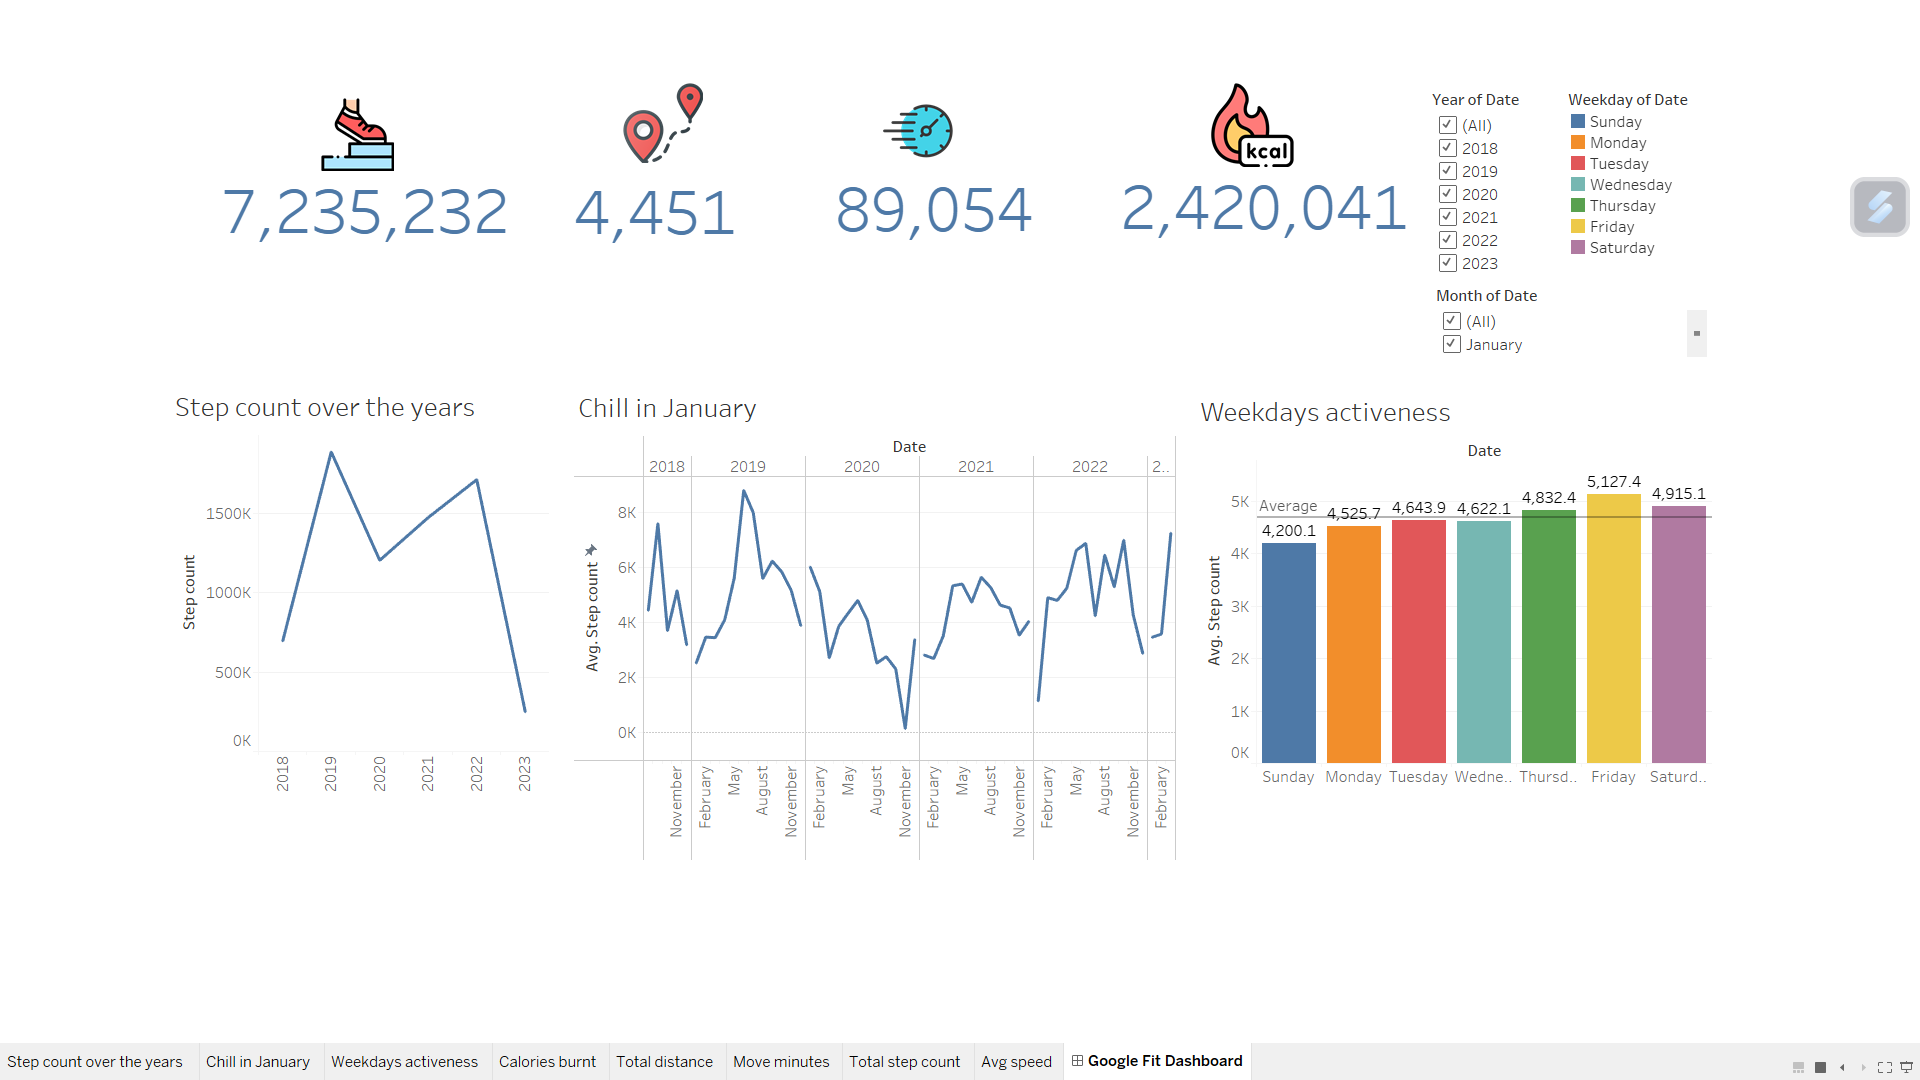

This screenshot's page, from the dashboard's own definition file:
{"tool":"tableau","page":{"name":"Google Fit Dashboard","canvas":[1600,900],"ordinal":0},"visuals":[{"type":"image","param":"C:/Users/Admin/Documents/My Tableau Repository/Shapes/custom icons/distance.png","box":[463,12,97,80]},{"type":"image","param":"C:/Users/Admin/Documents/My Tableau Repository/Shapes/custom icons/calories.png","box":[1050,12,84,88]},{"type":"image","param":"C:/Users/Admin/Documents/My Tableau Repository/Shapes/custom icons/time.png","box":[713,15,96,89]},{"type":"filter","title":"Step count over the years","param":"[federated.07p7ati10x92231e4opxs1hpfpph].[yr:Date:ok]","box":[1272,18,128,190]},{"type":"legend","title":"Weekdays activeness","param":"[federated.07p7ati10x92231e4opxs1hpfpph].[wd:Date:ok]","box":[1408,18,140,169]},{"type":"image","param":"C:/Users/Admin/Documents/My Tableau Repository/Shapes/custom icons/step.png","box":[161,27,94,73]},{"type":"worksheet","title":"Calories burnt","mark":"Automatic","box":[954,92,303,83]},{"type":"worksheet","title":"Move minutes","mark":"Automatic","box":[664,94,252,98]},{"type":"worksheet","title":"Total step count","mark":"Automatic","box":[55,96,331,115]},{"type":"worksheet","title":"Total distance","mark":"Automatic","box":[405,97,234,88]},{"type":"filter","title":"Chill in January","param":"[federated.07p7ati10x92231e4opxs1hpfpph].[mn:Date:ok]","box":[1276,214,271,72]},{"type":"worksheet","title":"Step count over the years","mark":"Automatic","rows":["Step count"],"cols":["Date"],"box":[11,314,378,426]},{"type":"worksheet","title":"Chill in January","mark":"Automatic","rows":["Step count"],"cols":["Date","Date"],"box":[414,315,602,475]},{"type":"worksheet","title":"Weekdays activeness","mark":"Bar","rows":["Step count"],"cols":["Date"],"box":[1036,319,516,398]}]}

Visuals, with their boxes on the page's 1600x900 design canvas (x1, y1, x2, y2). These are canvas units, not pixel positions in the 1920x1080 screenshot, which may show the page scaled, cropped or inside an application window:
image: (x1=463, y1=12, x2=560, y2=92)
image: (x1=1050, y1=12, x2=1134, y2=100)
image: (x1=713, y1=15, x2=809, y2=104)
"Step count over the years" filter: (x1=1272, y1=18, x2=1400, y2=208)
"Weekdays activeness" legend: (x1=1408, y1=18, x2=1548, y2=187)
image: (x1=161, y1=27, x2=255, y2=100)
"Calories burnt" worksheet: (x1=954, y1=92, x2=1257, y2=175)
"Move minutes" worksheet: (x1=664, y1=94, x2=916, y2=192)
"Total step count" worksheet: (x1=55, y1=96, x2=386, y2=211)
"Total distance" worksheet: (x1=405, y1=97, x2=639, y2=185)
"Chill in January" filter: (x1=1276, y1=214, x2=1547, y2=286)
"Step count over the years" worksheet: (x1=11, y1=314, x2=389, y2=740)
"Chill in January" worksheet: (x1=414, y1=315, x2=1016, y2=790)
"Weekdays activeness" worksheet (Bar marks): (x1=1036, y1=319, x2=1552, y2=717)
